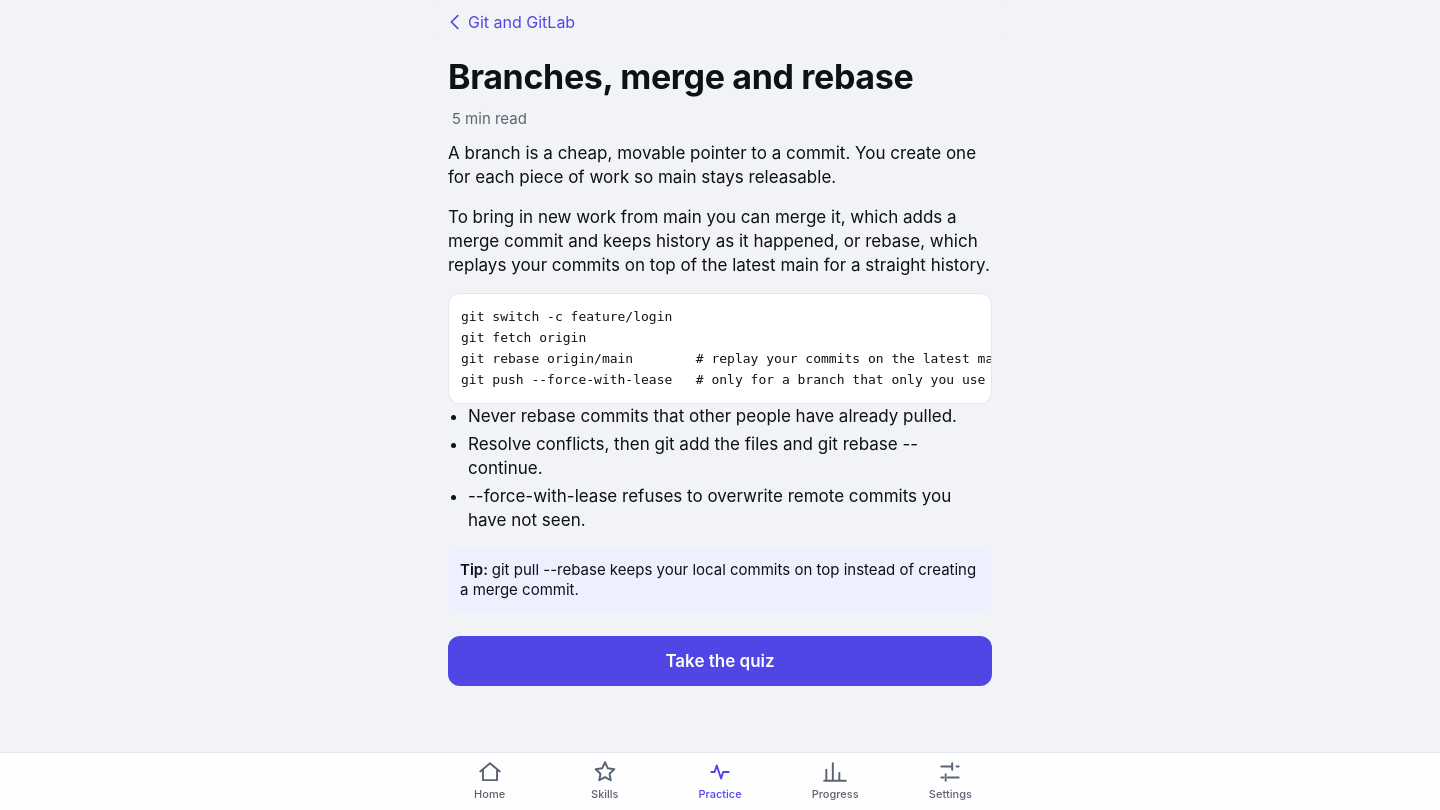
Test: Developer Tools module › a Tools lesson records a Developer Tools session
The width and height of the screenshot is (1440, 810).
Click the button "Take the quiz". click: (720, 660)
box: [448,636,992,686]
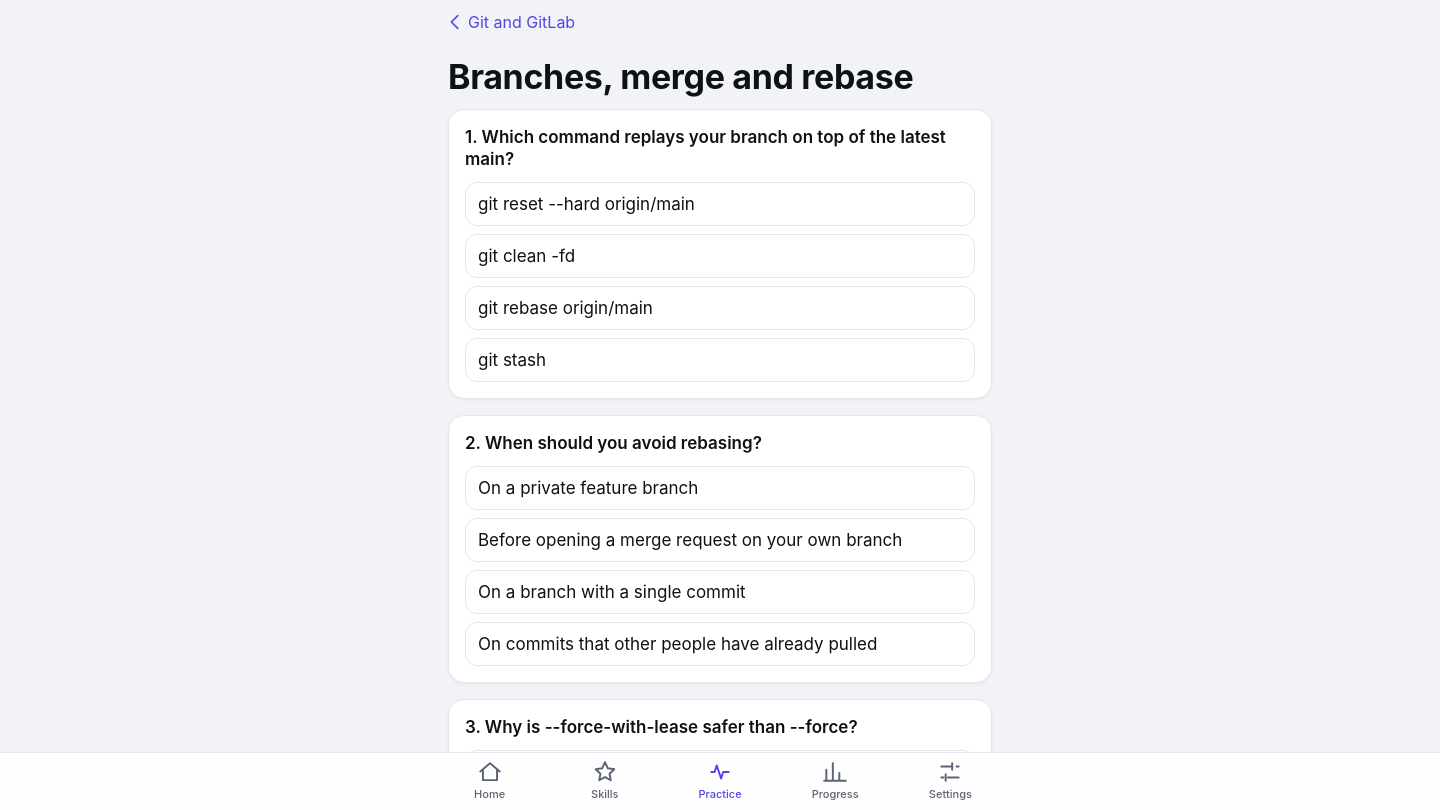
Click the radio button labelled "git rebase origin/main". click: (565, 308)
box: [465,286,975,330]
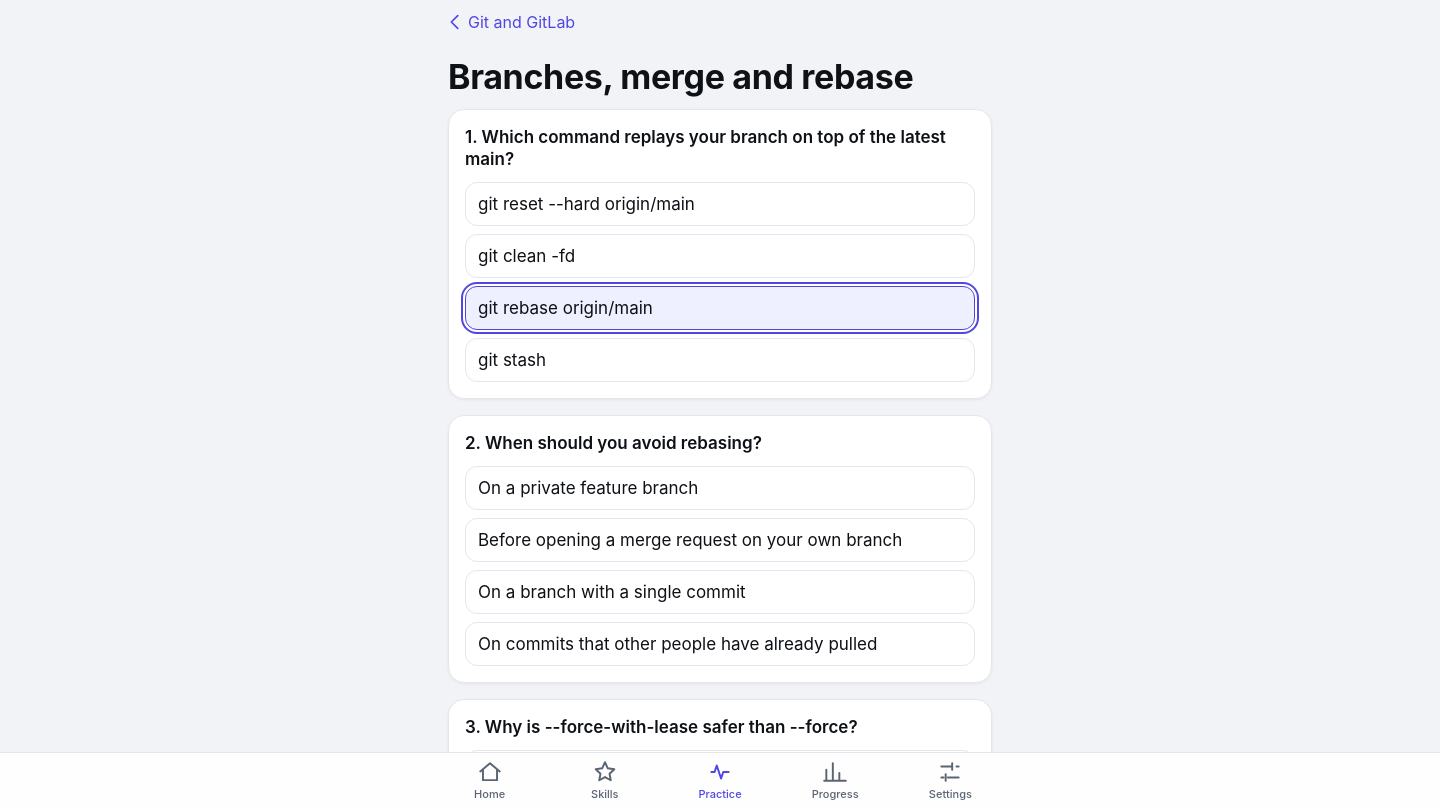
Click the radio button labelled "On commits that other people have already pulled". click: (720, 644)
box: [465,622,975,666]
(page scrolled)
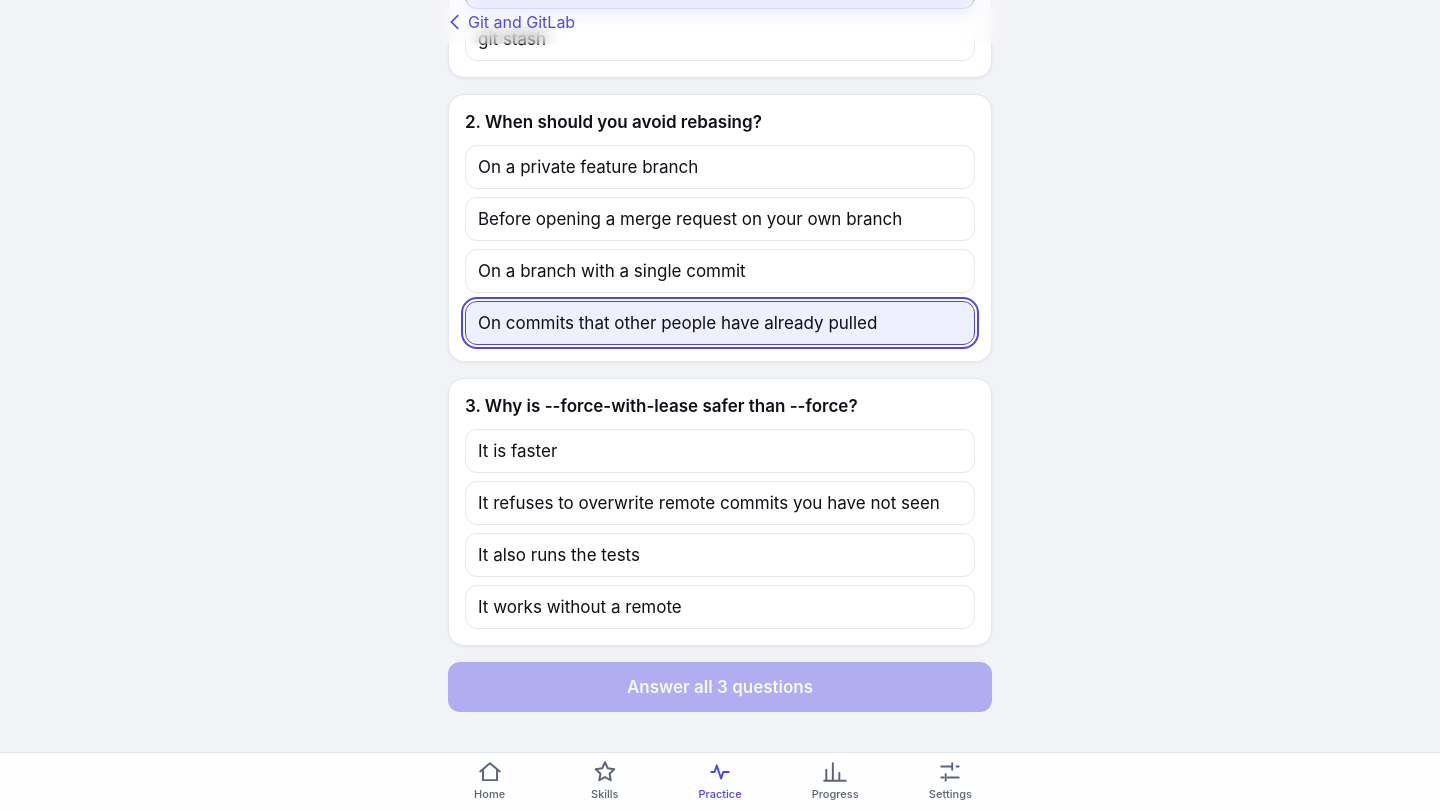
Click the radio button labelled "It refuses to overwrite remote commits you have not seen". click: (720, 503)
box: [465,481,975,525]
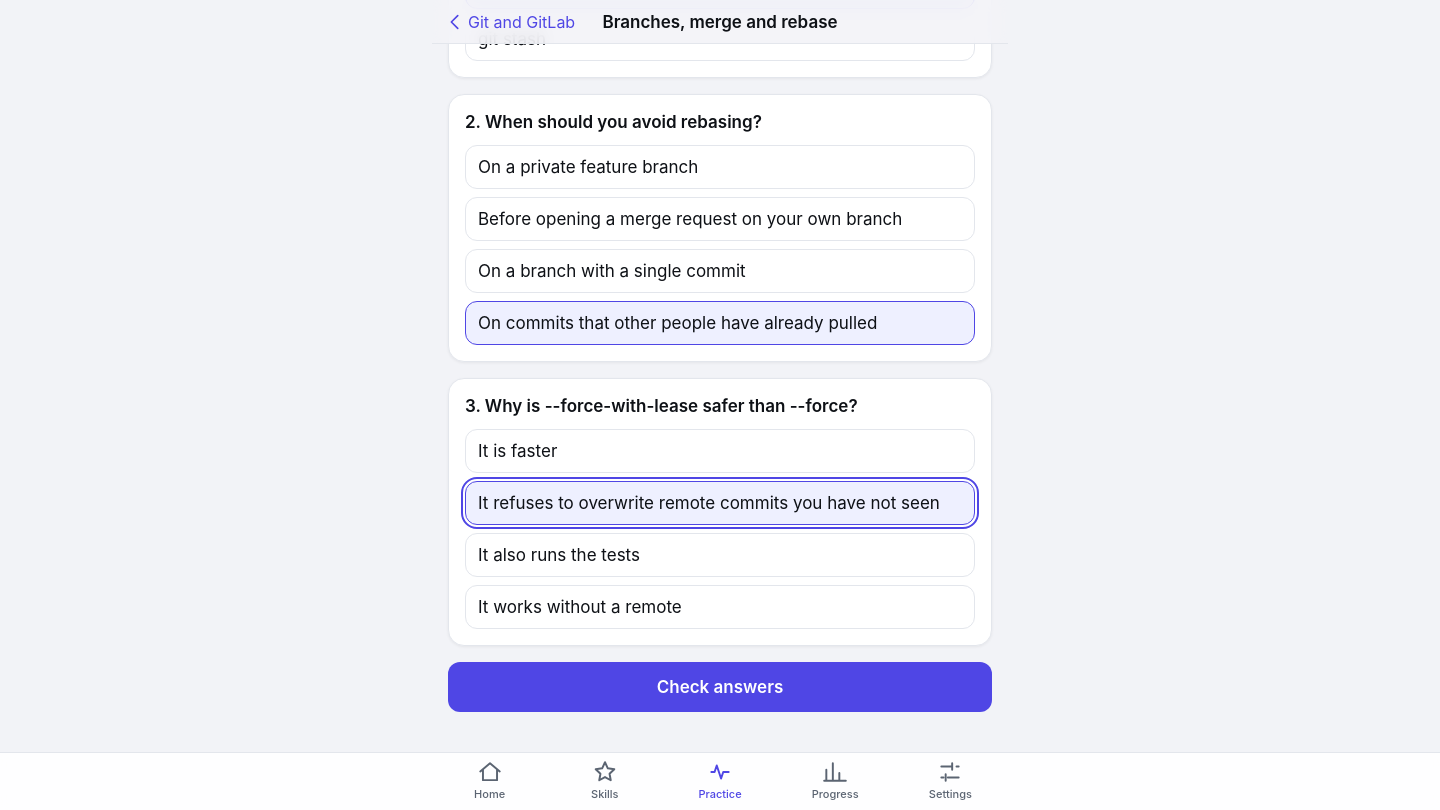
Click the button "Check answers". click: (720, 687)
box: [448,662,992,712]
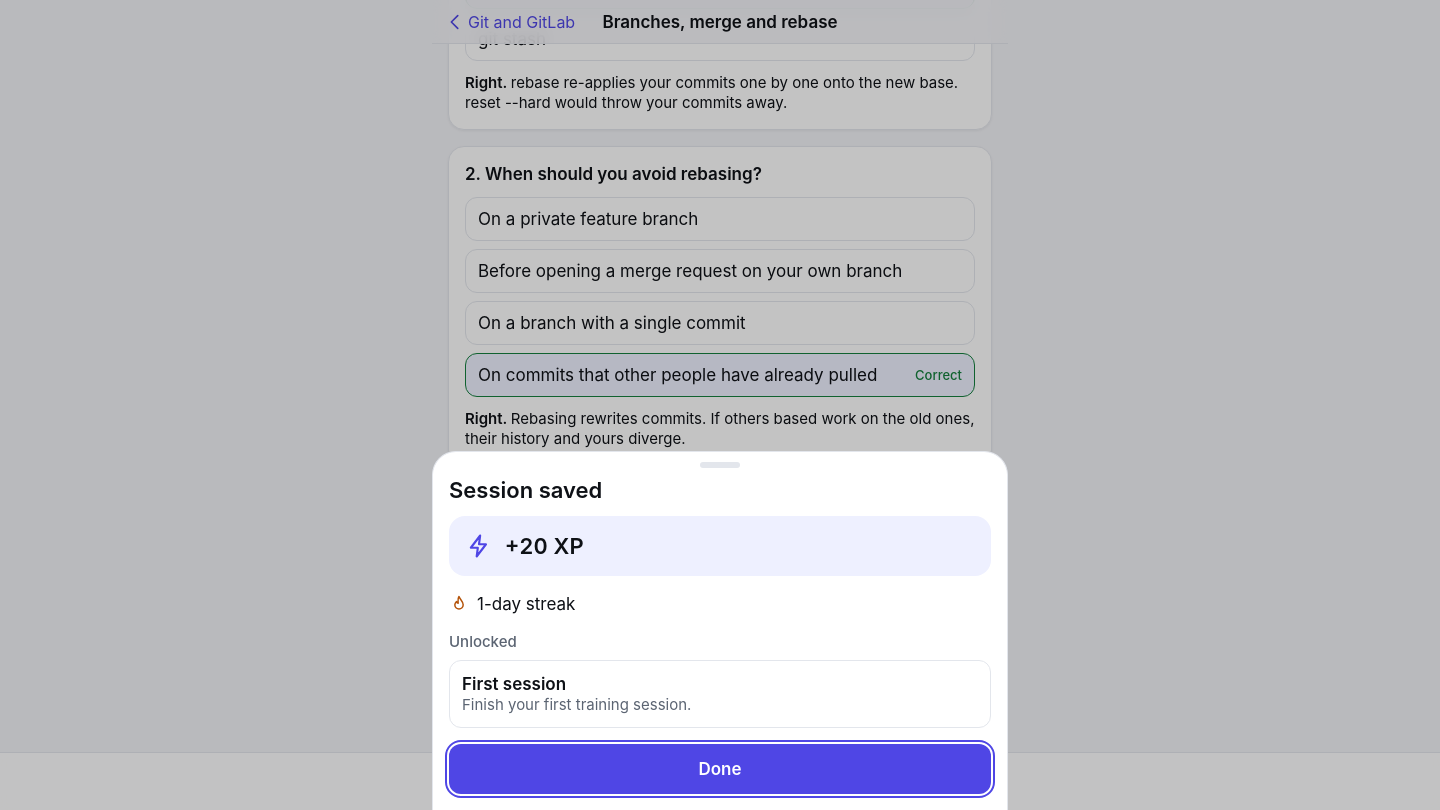
expect the text "+20 XP" is shown: met, box [505,532,584,560]
